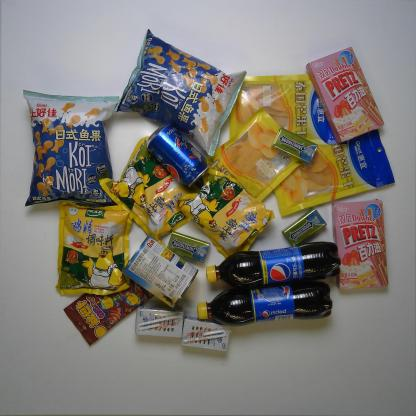Candy: (62, 277, 156, 347)
Canned Food: (121, 233, 200, 310)
Dessert: (304, 44, 386, 146), (330, 197, 391, 291)
Dried Fruit: (270, 126, 396, 218), (201, 105, 303, 203), (226, 71, 351, 147)
Drink: (202, 240, 344, 292), (194, 276, 336, 328), (144, 121, 212, 190)
Gum: (280, 206, 328, 250), (270, 126, 319, 166), (166, 229, 212, 264)
Milk: (178, 314, 233, 353), (132, 303, 185, 341)
Puffed Food: (110, 26, 249, 159), (19, 88, 122, 210)
Seasoner: (97, 133, 194, 250), (175, 164, 276, 261), (52, 200, 134, 298)
